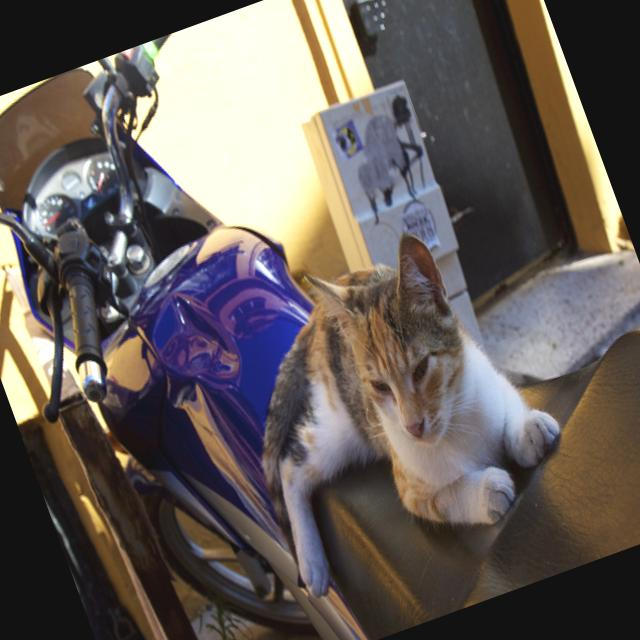Vehicle: (0, 0, 520, 640), (122, 207, 349, 460)
